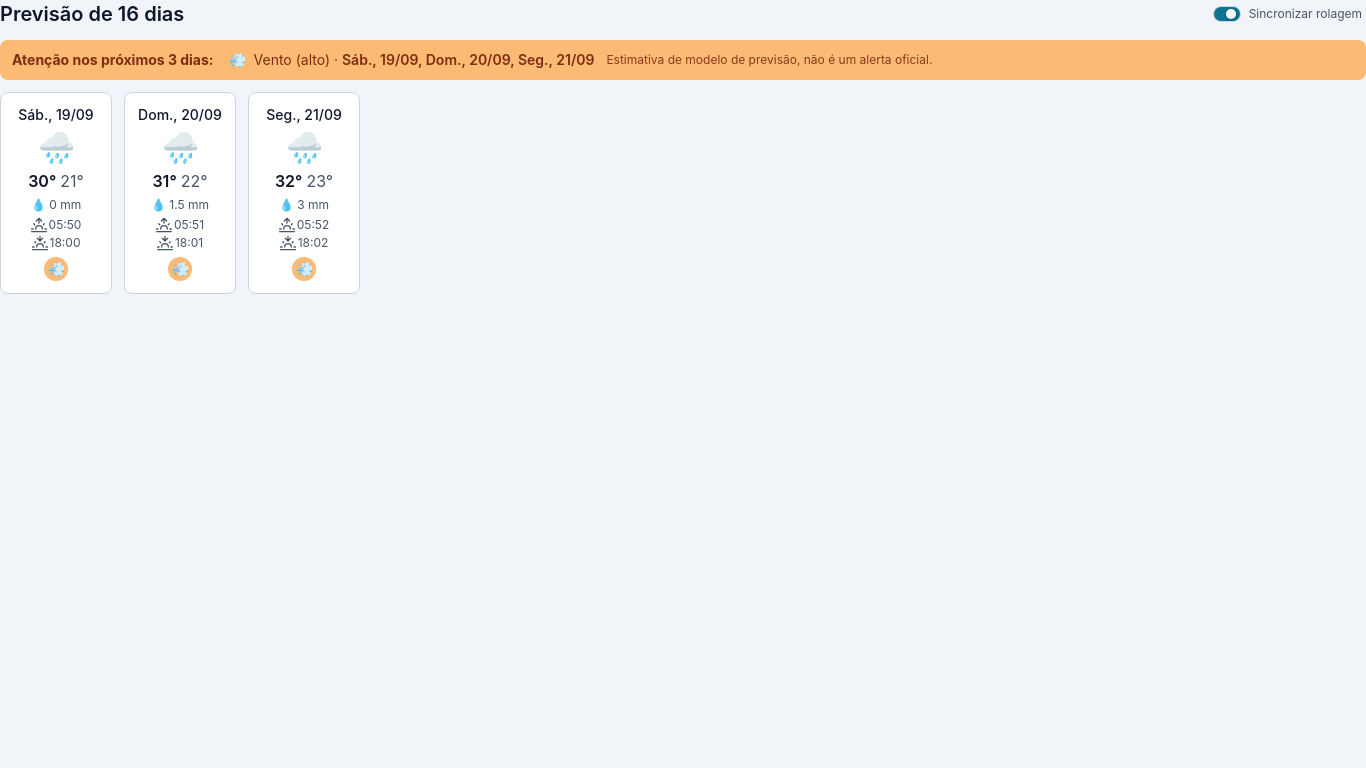
ForecastCards › day detail modal › every card is a button that opens the detail of THAT day
Step 1. Click the button with test id "day-card" → (304, 193), box [248, 92, 360, 294]
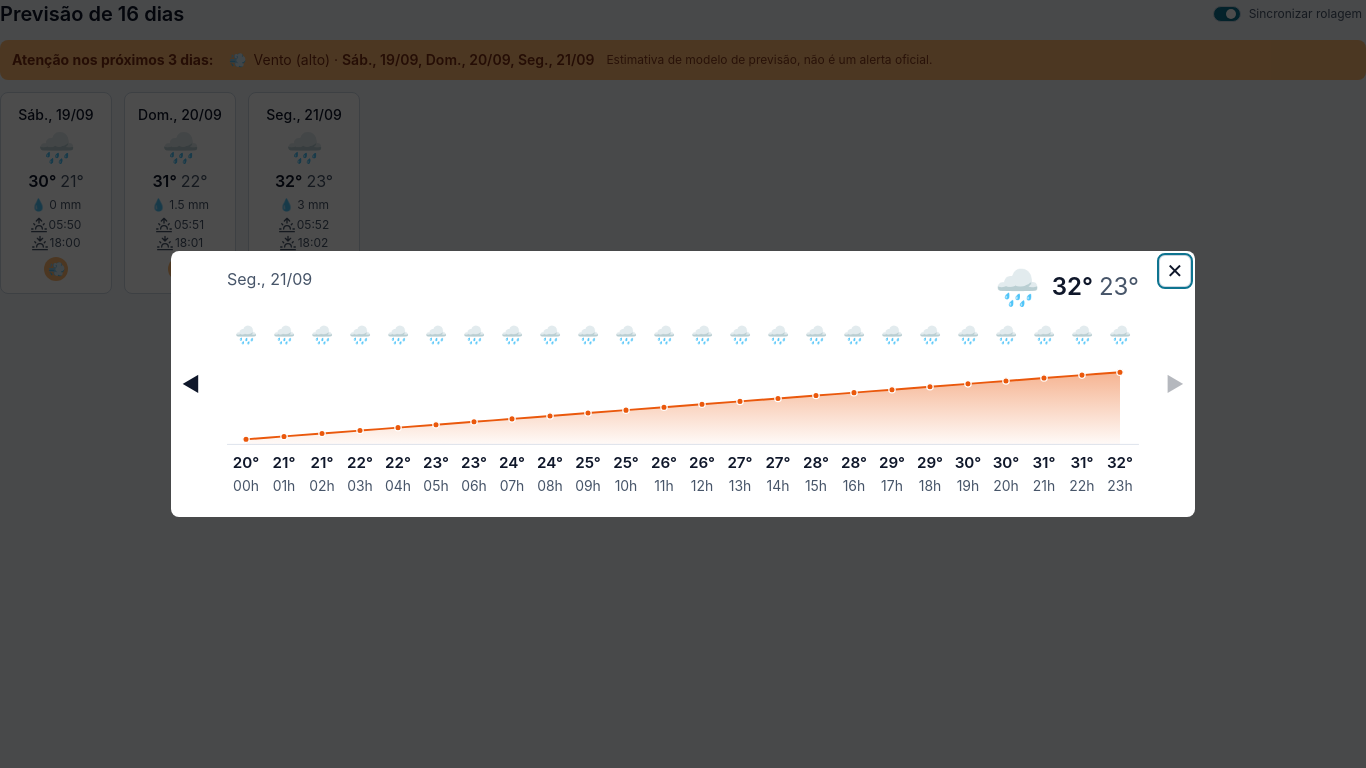
Result: the text with test id "day-date" shows "21/09" at [227, 269, 312, 289]
